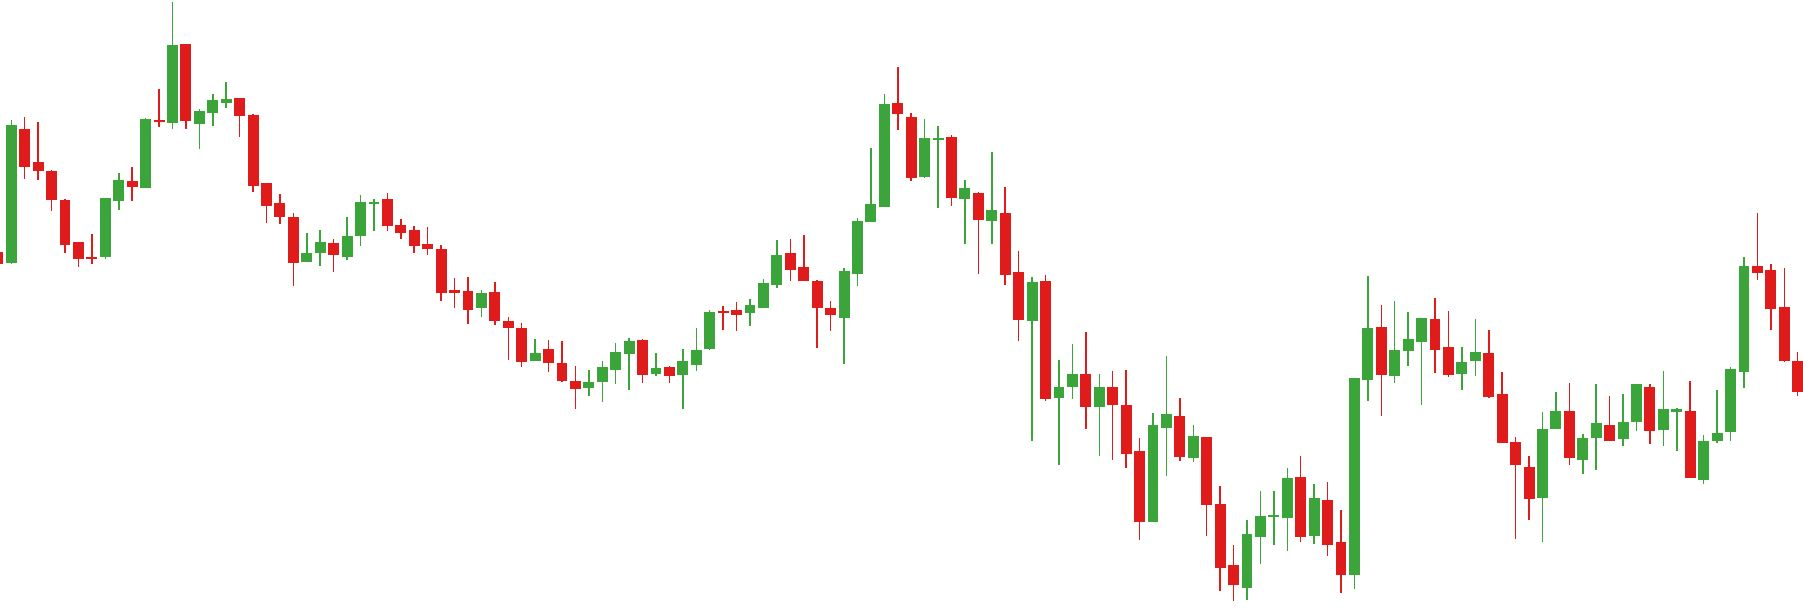buy: (1131, 432, 1255, 602)
sell: (1428, 213, 1780, 418)
